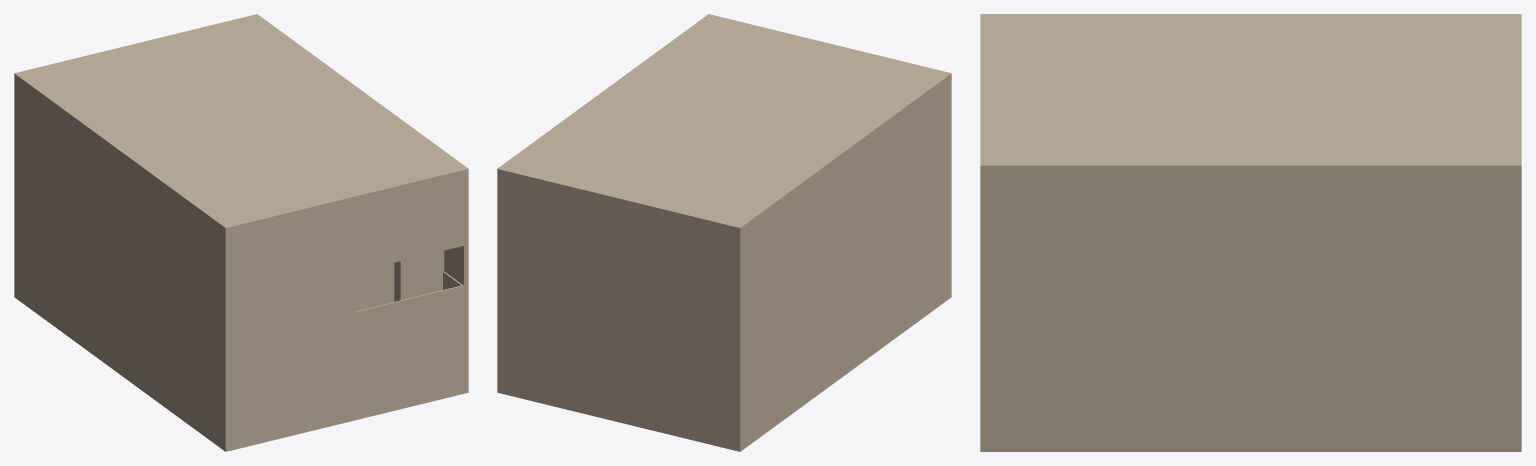
Rendered from massing.glb.
3 renders of one model, left to right at view 1: azimuth 30°, elevation 25°; view 2: azimuth 150°, elevation 25°; view 3: azimuth 270°, elevation 25°, orthographic. The views are drawn at different scales.
Visible parts, largest first — view 1: building/exterior; view 2: building/exterior; view 3: building/exterior.
Part boxes in pixels (x1,y1,x2,y2): building/exterior: [14, 14, 468, 451]; building/exterior: [497, 14, 951, 451]; building/exterior: [980, 14, 1521, 451].
Size of the model in its own units: 10 by 8.8 by 15.07.
